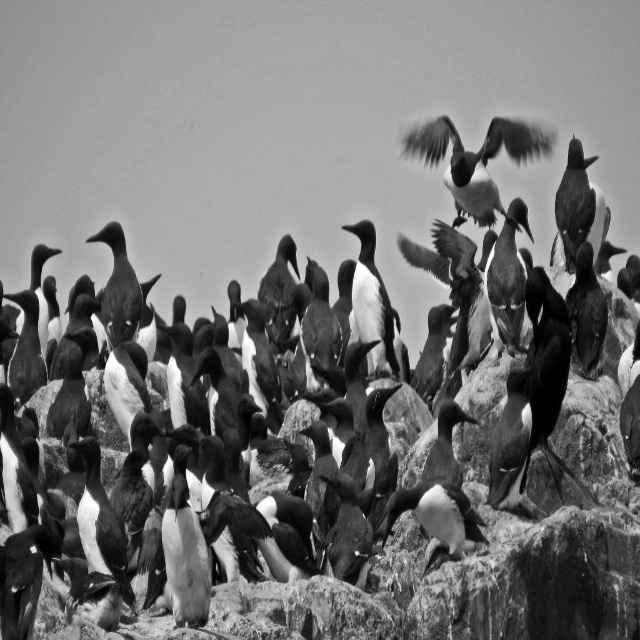Penguin: (332, 206, 399, 389)
